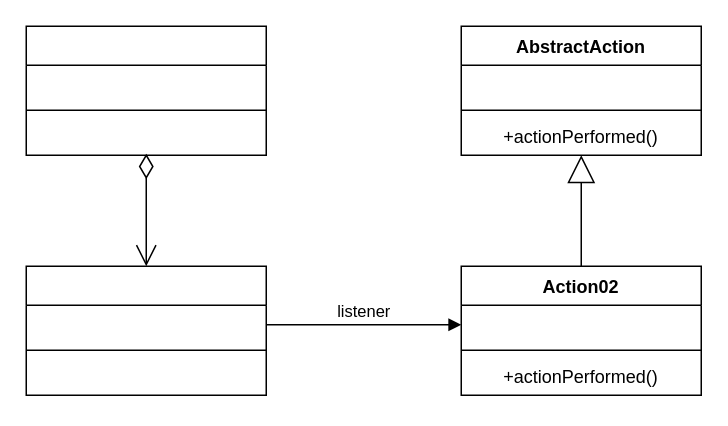
The diagram is 728 pixels wide and 426 high, and some of its shapes have lost their labels. The shapes that lost their labels are listed below. From the top down, each one's centre as x and y in pixels, then its label:
At point 145,90: "ActionTest02".
At point 145,330: "JButton".
